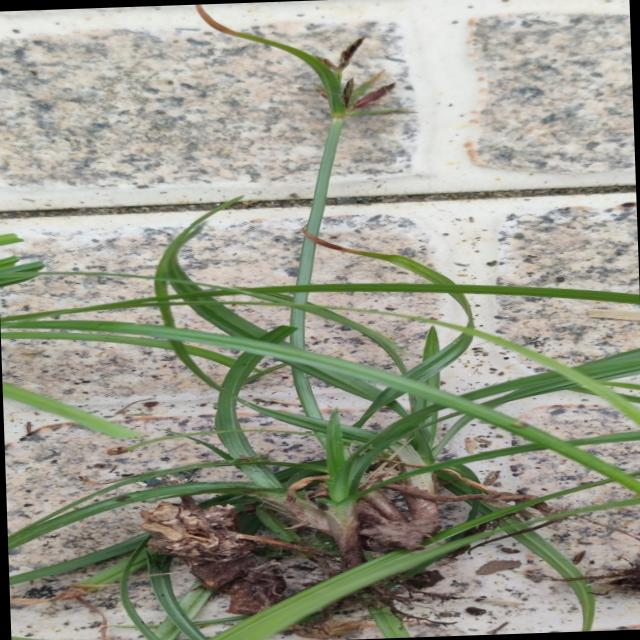cyperus: (179, 0, 437, 170)
